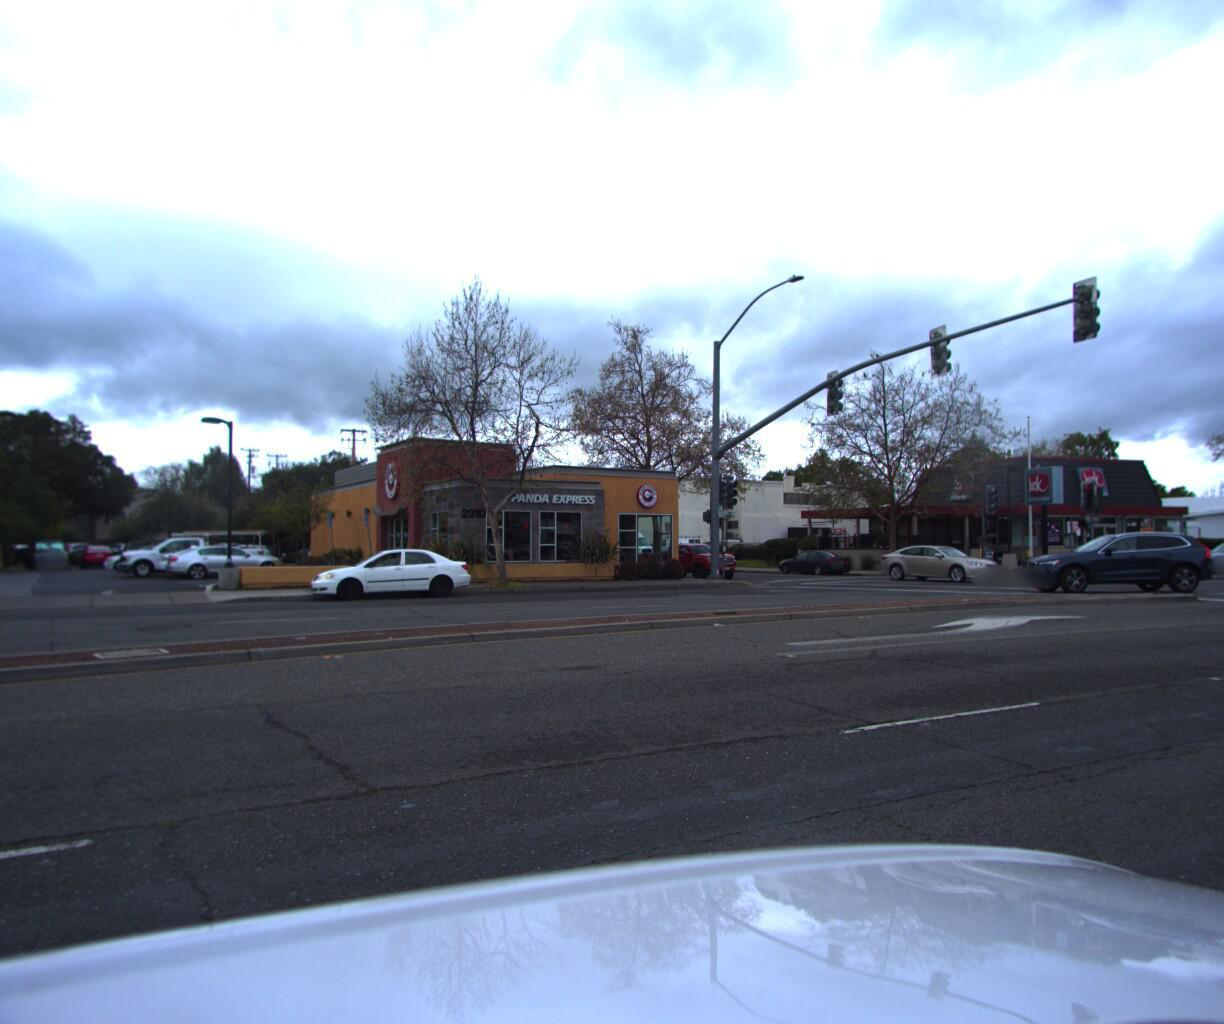car: (1012, 537, 1218, 604), (308, 554, 479, 617), (875, 553, 1006, 593), (638, 552, 742, 591), (663, 550, 737, 583), (775, 558, 851, 588), (1175, 545, 1224, 588)
